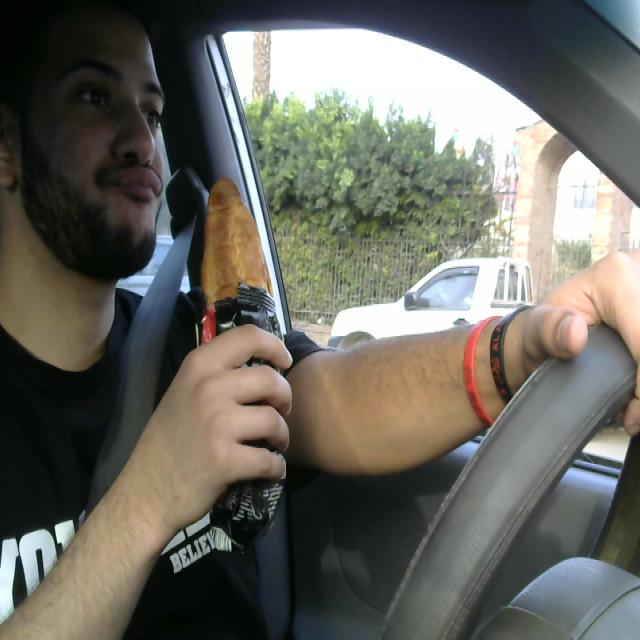eating: (196, 172, 287, 538)
